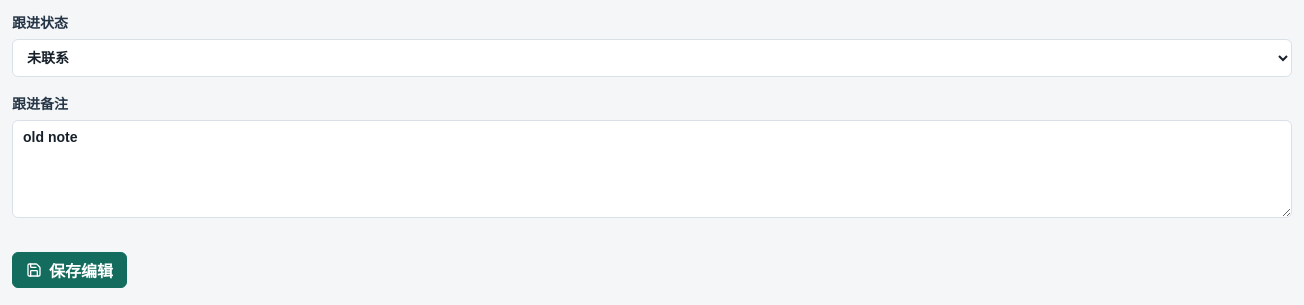
CustomerEditForm › keeps edited input values when the PATCH request fails
Replace the text in the text box labelled "跟进备注" with "Keep this note": (652, 169) 12,120 -> 1292,218
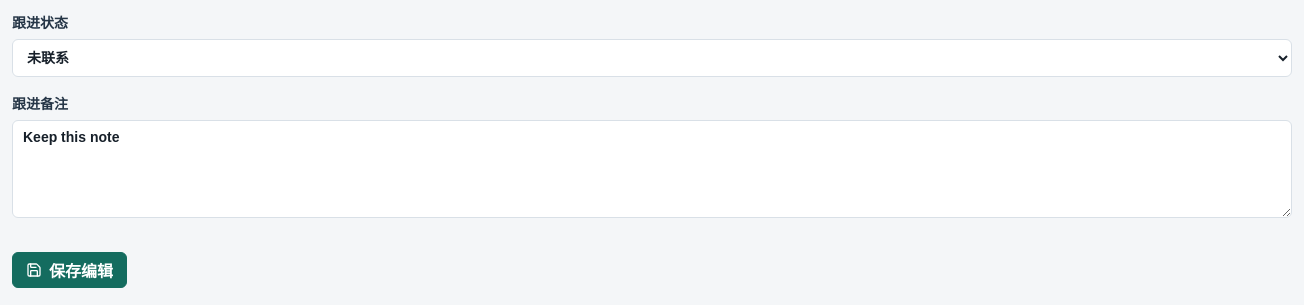
Select "已报价" in the dropdown labelled "跟进状态": (652, 58) 12,39 -> 1292,77
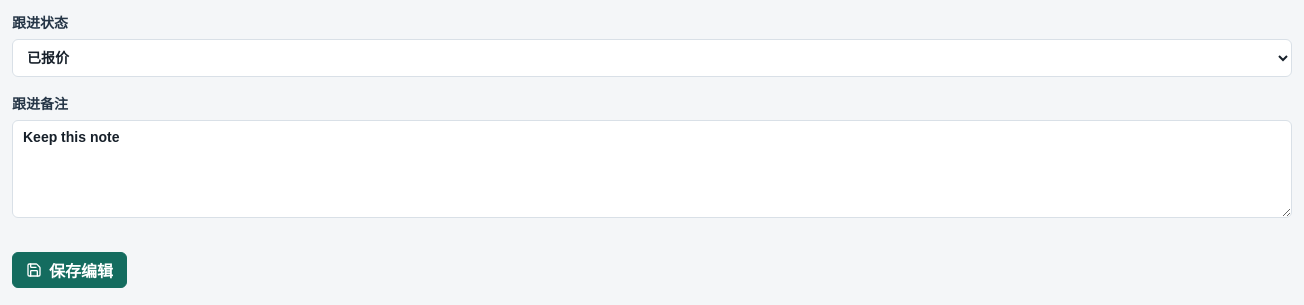
Click the button "保存编辑": (70, 270) 12,252 -> 127,288
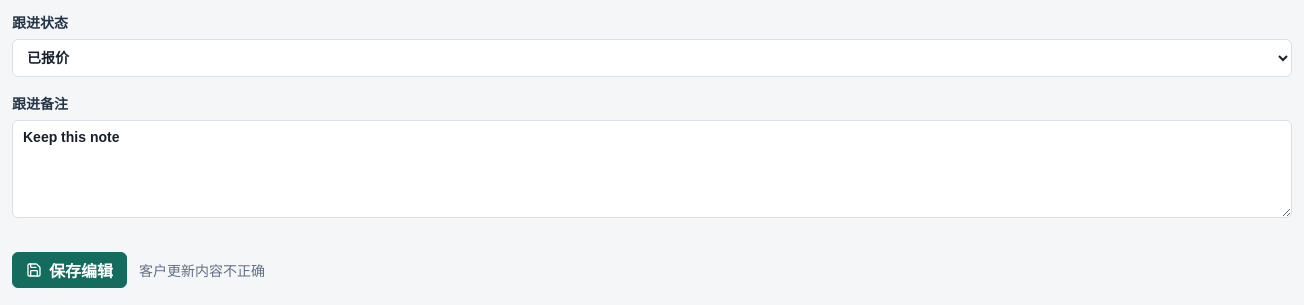
Now the text "客户更新内容不正确" is shown, box 139,260 -> 265,280
